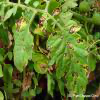Tomato leaf bacterial spot: (43, 23, 91, 94), (9, 12, 36, 80), (29, 49, 51, 77), (37, 11, 53, 32)
